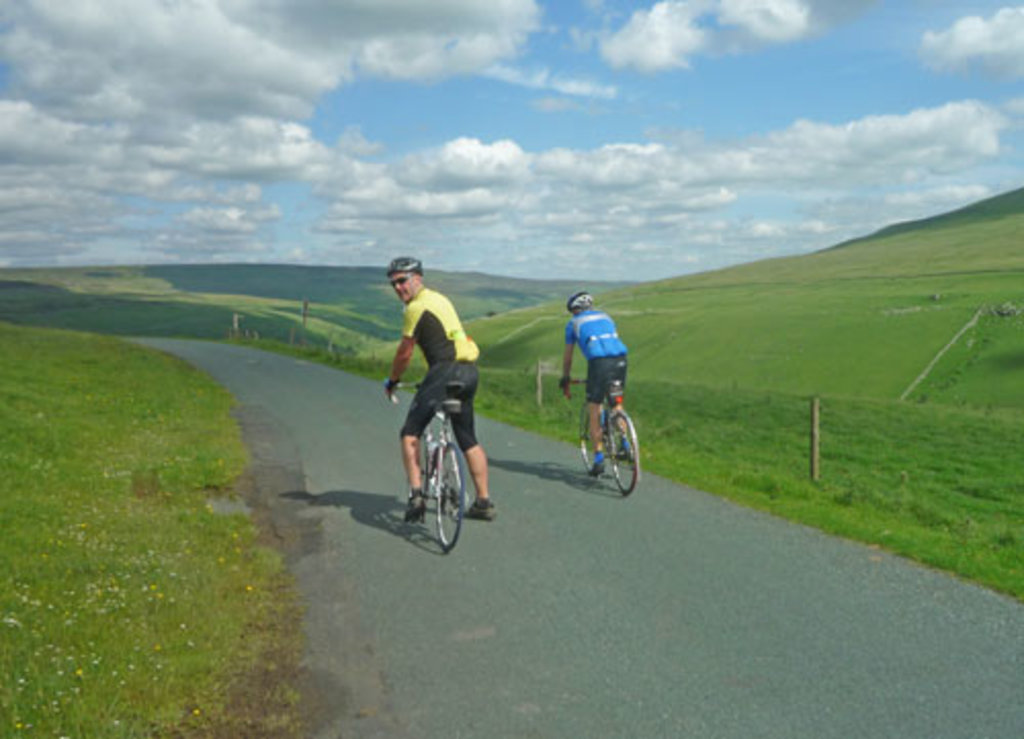Bike_away: (382, 376, 506, 573), (564, 382, 655, 516)
